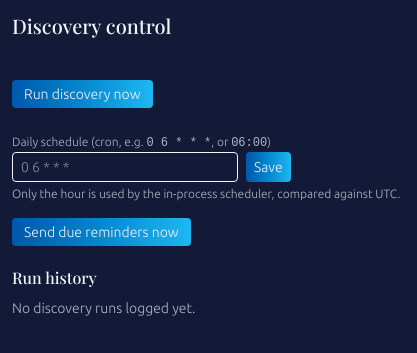
DiscoveryPage › sends due reminders now, POSTing the passcode and showing the sent count
Expected: the text "No discovery runs logged yet." is shown, [12,300,196,316]
Click the button "Send due reminders now" at (101, 232), box [12,218,191,246]
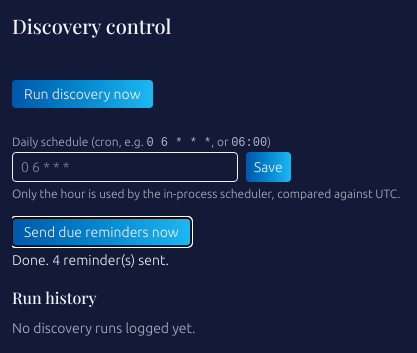
Now the text "Done. 4 reminder(s) sent." is shown, box [12,252,169,268]
